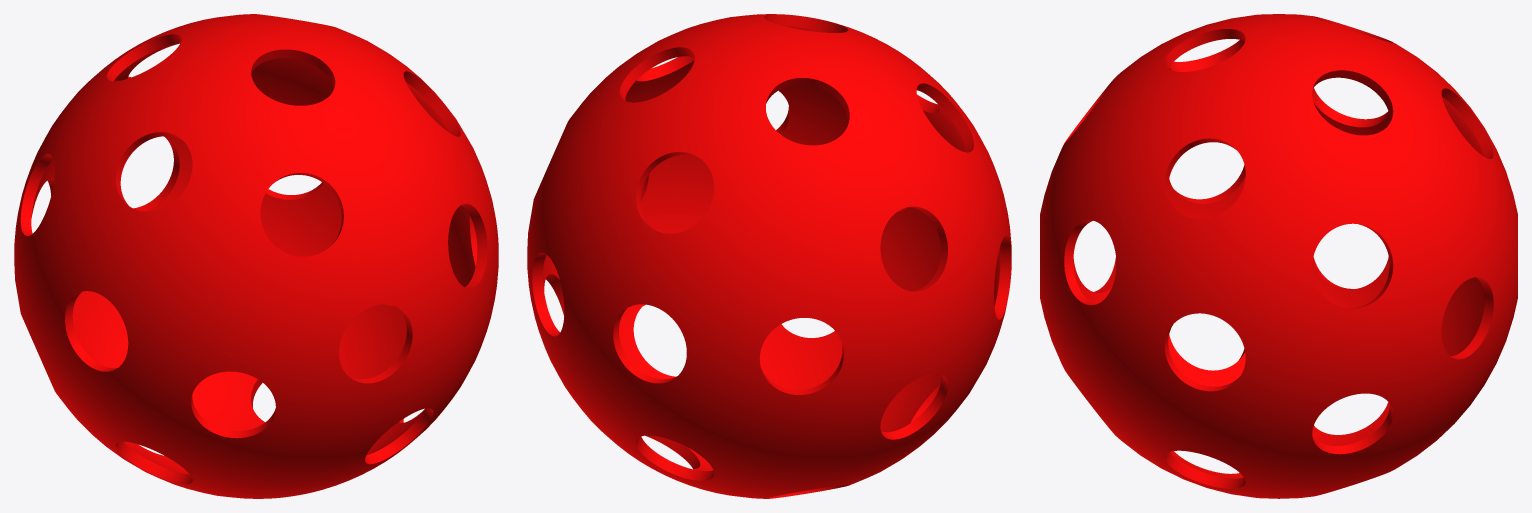
Rendered from nectar.obj.
The picture shows the model from 3 angles, left to right: view 1: azimuth 30°, elevation 25°; view 2: azimuth 150°, elevation 25°; view 3: azimuth 270°, elevation 25°; orthographic projection.
Visible parts, largest first — view 1: mesh1, mesh14, mesh15, mesh17, mesh6, mesh11, mesh16, mesh2, mesh10, mesh0, mesh7, mesh13 (+3 smaller); view 2: mesh15, mesh14, mesh1, mesh27, mesh8, mesh26, mesh7, mesh23, mesh18, mesh0, mesh28, mesh16 (+3 smaller); view 3: mesh1, mesh15, mesh14, mesh4, mesh24, mesh0, mesh27, mesh10, mesh21, mesh8, mesh23, mesh17 (+2 smaller).
Boxes of the visible parts, x1=… form: mesh1: x1=46, y1=31, x2=498, y2=498; mesh14: x1=31, y1=44, x2=475, y2=474; mesh15: x1=14, y1=14, x2=386, y2=445; mesh17: x1=20, y1=154, x2=53, y2=235; mesh6: x1=115, y1=441, x2=192, y2=484; mesh11: x1=365, y1=408, x2=433, y2=464; mesh16: x1=106, y1=34, x2=181, y2=81; mesh2: x1=403, y1=71, x2=460, y2=136; mesh10: x1=461, y1=203, x2=487, y2=288; mesh0: x1=251, y1=49, x2=335, y2=89; mesh7: x1=65, y1=292, x2=117, y2=371; mesh13: x1=348, y1=308, x2=412, y2=383; mesh15: x1=527, y1=31, x2=979, y2=498; mesh14: x1=543, y1=25, x2=1000, y2=471; mesh1: x1=637, y1=14, x2=1011, y2=444; mesh27: x1=532, y1=252, x2=560, y2=336; mesh8: x1=916, y1=83, x2=973, y2=152; mesh26: x1=636, y1=436, x2=713, y2=480; mesh7: x1=994, y1=235, x2=1011, y2=319; mesh23: x1=619, y1=47, x2=694, y2=100; mesh18: x1=881, y1=374, x2=947, y2=439; mesh0: x1=764, y1=14, x2=848, y2=32; mesh28: x1=613, y1=308, x2=677, y2=383; mesh16: x1=766, y1=78, x2=849, y2=125; mesh1: x1=1040, y1=14, x2=1278, y2=498; mesh15: x1=1279, y1=14, x2=1517, y2=498; mesh14: x1=1073, y1=68, x2=1484, y2=478; mesh4: x1=1164, y1=452, x2=1245, y2=488; mesh24: x1=1441, y1=88, x2=1493, y2=158; mesh0: x1=1164, y1=29, x2=1245, y2=68; mesh27: x1=1450, y1=277, x2=1493, y2=359; mesh10: x1=1064, y1=220, x2=1095, y2=305; mesh21: x1=1312, y1=403, x2=1393, y2=454; mesh8: x1=1169, y1=40, x2=1244, y2=71; mesh23: x1=1313, y1=70, x2=1393, y2=123; mesh17: x1=1312, y1=87, x2=1388, y2=127.
Bounding box in the file's own units: 0.0919 × 0.0919 × 0.0905.
